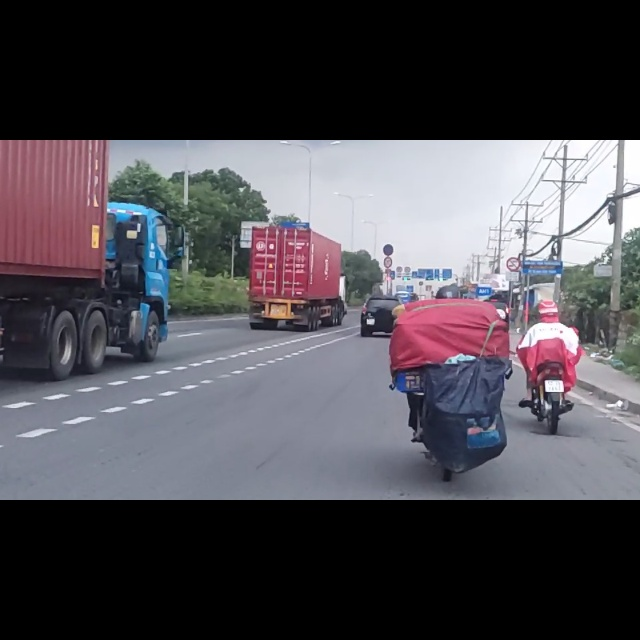bien_chi_dan: (507, 209, 521, 235), (382, 185, 394, 205)
